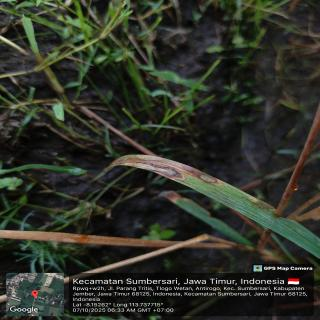Blast: (104, 155, 217, 184)
